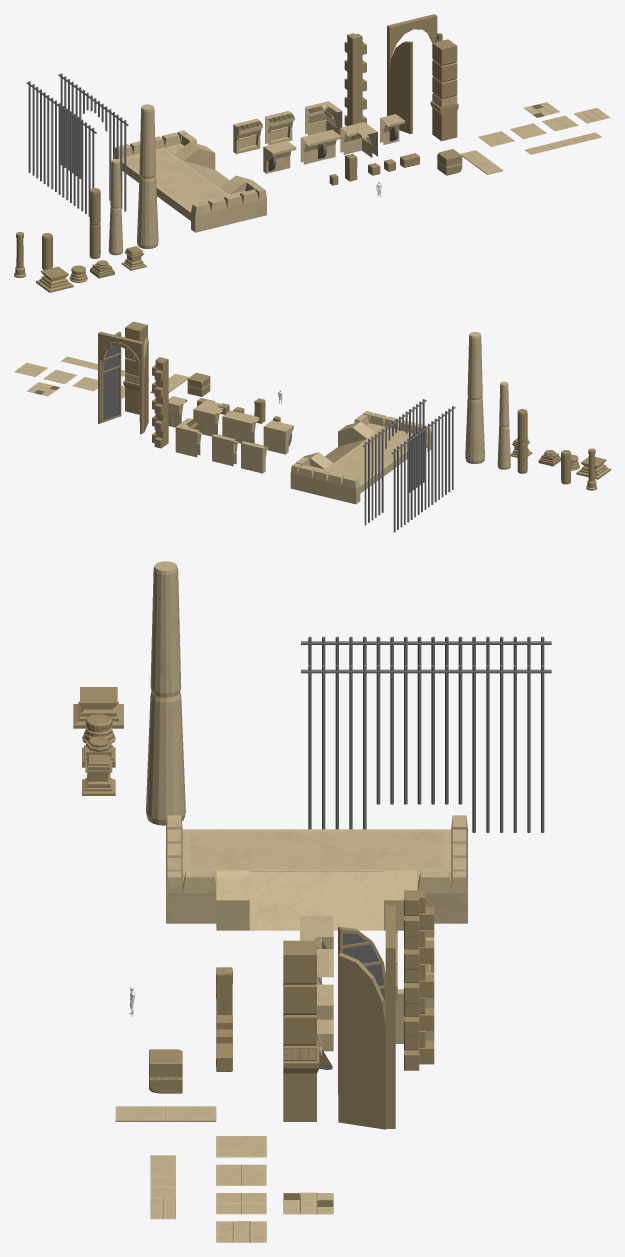
Rendered from F3PS_env.fbx.
The picture shows the model from 3 angles, top to bottom: view 1: azimuth 30°, elevation 25°; view 2: azimuth 150°, elevation 25°; view 3: azimuth 270°, elevation 25°; orthographic projection. The views are drawn at different scales.
Parts seen in each view (by area): view 1: F3PS_env_altar, F3PS_env_Bars_metal, F3PS_env_door_round, F3PS_env_Bars_metal_door, F3PS_Env_Pillar_Large_oval, F3PS_env_wall_pillar_square.002, F3PS_Env_stone_Corner, F3PS_Env_Pillar_small_oval, F3PS_env_wall_littel_wheel_corner.001, F3PS_env_wall_littel_inlet_corner_1, F3PS_env_wall_littel_wheel_big.003, F3PS_env_wall_littel_inlet_closed (+10 smaller); view 2: F3PS_env_altar, F3PS_env_Bars_metal, F3PS_env_door_round, F3PS_env_Bars_metal_door, F3PS_Env_Pillar_Large_oval, F3PS_Env_stone_Corner, F3PS_env_wall_pillar_square.002, F3PS_Env_Pillar_small_oval, F3PS_env_wall_littel_wheel_big.003, F3PS_env_wall_littel_inlet_corner_1, F3PS_env_wall_littel_wheel_left, F3PS_env_wall_littel_wheel_corner.001 (+8 smaller); view 3: F3PS_env_altar, F3PS_env_door_round, F3PS_env_Bars_metal_door, F3PS_Env_Pillar_Large_oval, F3PS_env_wall_pillar_square.002, F3PS_env_Bars_metal, F3PS_Env_stone_Corner, F3PS_env_stone_plate_moveable, F3PS_Env_Pillar_base_1, F3PS_env_stone_big_block_moveable, F3PS_Env_Pillar_base_4, F3PS_env_ground_tile4_b (+5 smaller).
Part boxes in pixels (bbox=[...]): F3PS_env_altar: bbox=[115, 130, 266, 232]; F3PS_env_Bars_metal: bbox=[26, 81, 96, 216]; F3PS_env_door_round: bbox=[387, 14, 442, 134]; F3PS_env_Bars_metal_door: bbox=[58, 73, 128, 211]; F3PS_Env_Pillar_Large_oval: bbox=[137, 104, 158, 248]; F3PS_env_wall_pillar_square.002: bbox=[430, 39, 458, 141]; F3PS_Env_stone_Corner: bbox=[344, 33, 366, 125]; F3PS_Env_Pillar_small_oval: bbox=[108, 159, 123, 255]; F3PS_env_wall_littel_wheel_corner.001: bbox=[340, 122, 377, 157]; F3PS_env_wall_littel_inlet_corner_1: bbox=[305, 101, 342, 135]; F3PS_env_wall_littel_wheel_big.003: bbox=[300, 129, 341, 164]; F3PS_env_wall_littel_inlet_closed: bbox=[233, 119, 262, 154]; F3PS_env_altar: bbox=[290, 411, 431, 504]; F3PS_env_Bars_metal: bbox=[391, 406, 455, 532]; F3PS_env_door_round: bbox=[98, 331, 148, 434]; F3PS_env_Bars_metal_door: bbox=[362, 399, 426, 525]; F3PS_Env_Pillar_Large_oval: bbox=[465, 332, 484, 463]; F3PS_Env_stone_Corner: bbox=[152, 357, 168, 448]; F3PS_env_wall_pillar_square.002: bbox=[123, 321, 148, 414]; F3PS_Env_Pillar_small_oval: bbox=[497, 381, 510, 469]; F3PS_env_wall_littel_wheel_big.003: bbox=[222, 410, 259, 443]; F3PS_env_wall_littel_inlet_corner_1: bbox=[175, 418, 202, 457]; F3PS_env_wall_littel_wheel_left: bbox=[263, 420, 293, 454]; F3PS_env_wall_littel_wheel_corner.001: bbox=[193, 400, 223, 436]; F3PS_env_altar: bbox=[166, 815, 467, 930]; F3PS_env_door_round: bbox=[338, 905, 397, 1129]; F3PS_env_Bars_metal_door: bbox=[301, 665, 551, 832]; F3PS_Env_Pillar_Large_oval: bbox=[146, 561, 185, 825]; F3PS_env_wall_pillar_square.002: bbox=[283, 940, 319, 1121]; F3PS_env_Bars_metal: bbox=[301, 636, 551, 804]; F3PS_Env_stone_Corner: bbox=[404, 890, 434, 1070]; F3PS_env_stone_plate_moveable: bbox=[115, 1106, 216, 1121]; F3PS_Env_Pillar_base_1: bbox=[73, 687, 123, 728]; F3PS_env_stone_big_block_moveable: bbox=[149, 1049, 182, 1093]; F3PS_Env_Pillar_base_4: bbox=[82, 754, 115, 795]; F3PS_env_ground_tile4_b: bbox=[283, 1192, 333, 1214].
Bounding box in the file's own units: 7673 × 1655 × 2849.
